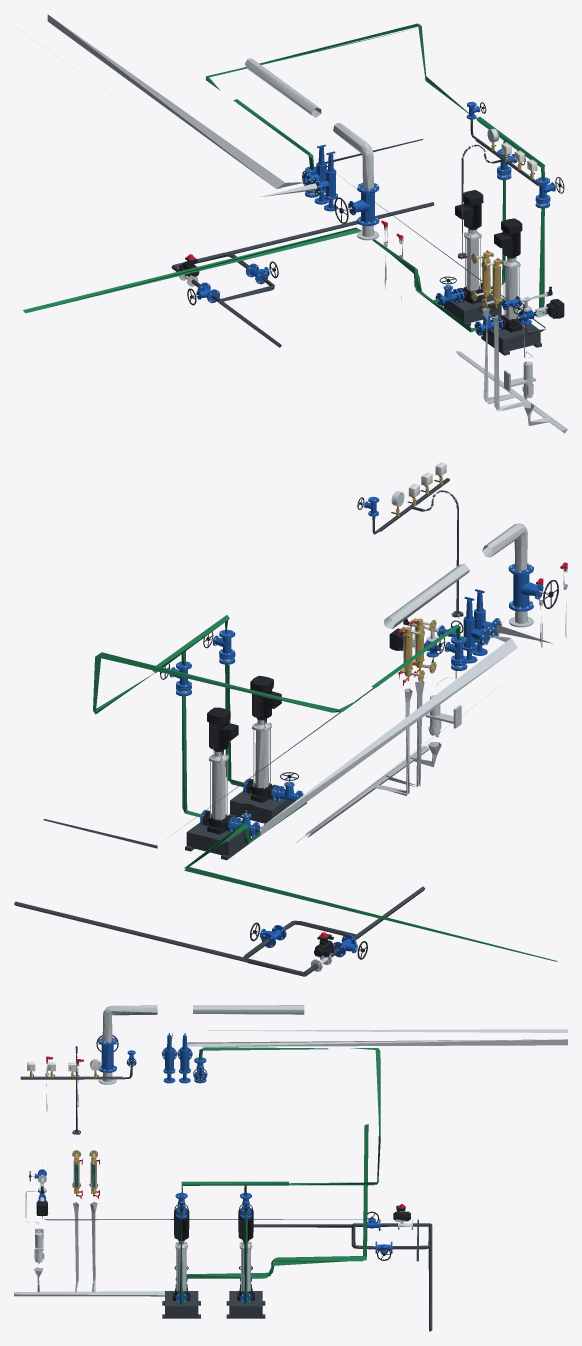
The picture shows the model from 3 angles, top to bottom: view 1: azimuth 30°, elevation 25°; view 2: azimuth 150°, elevation 25°; view 3: azimuth 270°, elevation 25°; orthographic projection. The views are drawn at different scales.
Visible parts, largest first — view 1: safety_vent_2, suction_common, pump_1, local_open_drains, pump_2, pump_branch_1, pump_branch_2, to_direct, steam_delivery, steam_manual, steam_rise, bottom_discharge (+4 smaller); view 2: safety_vent_2, pump_2, pump_1, local_open_drains, pump_branch_2, suction_common, to_direct, pump_branch_1, steam_manual, steam_delivery, bottom_discharge, steam_rise (+3 smaller); view 3: safety_vent_2, suction_common, local_open_drains, pump_branch_2, pump_branch_1, steam_delivery, safety_vent_1, pump_1, pump_2, steam_rise, to_direct, pressure_header (+3 smaller).
Part boxes in pixels (x1,y1,x2,y2): safety_vent_2: (47,14,306,189); suction_common: (23,227,471,332); pump_1: (494,218,523,332); local_open_drains: (455,308,567,433); pump_2: (455,190,483,303); pump_branch_1: (471,165,544,355); pump_branch_2: (432,140,505,326); to_direct: (205,23,468,113); steam_delivery: (245,58,321,117); steam_manual: (334,183,379,226); steam_rise: (333,122,373,189); bottom_discharge: (174,202,434,267); safety_vent_2: (260,635,517,835); pump_2: (203,707,238,834); pump_1: (246,675,281,802); local_open_drains: (305,681,441,837); pump_branch_2: (181,651,260,860); suction_common: (184,802,557,961); to_direct: (93,652,359,714); pump_branch_1: (225,620,300,824); steam_manual: (508,563,558,611); steam_delivery: (384,563,469,629); bottom_discharge: (14,901,305,975); steam_rise: (482,523,527,570); safety_vent_2: (187,1039,567,1046); suction_common: (186,1124,368,1278); local_open_drains: (14,1202,164,1296); pump_branch_2: (226,1185,265,1318); pump_branch_1: (162,1185,200,1318); steam_delivery: (193,1005,304,1014); safety_vent_1: (171,1029,567,1040); pump_1: (172,1209,190,1300); pump_2: (237,1209,254,1300); steam_rise: (102,1005,157,1042); to_direct: (289,1048,380,1185); pressure_header: (20,1046,132,1134).
Size of the model in its own units: 5 by 3.03 by 6.45.
